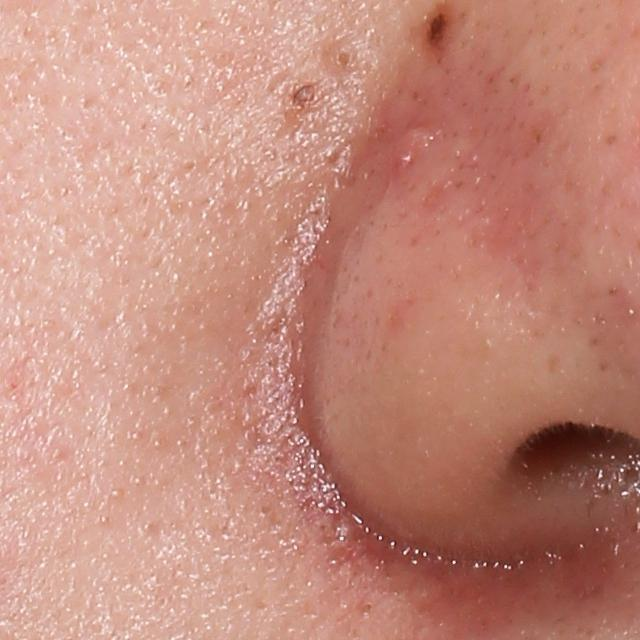comedo: (326, 39, 364, 78), (178, 156, 199, 173), (359, 601, 376, 617)
